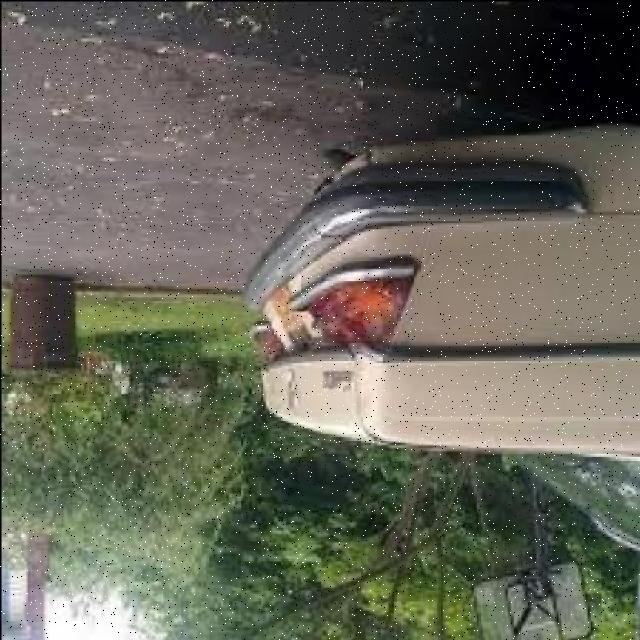damage: (258, 296, 363, 363)
